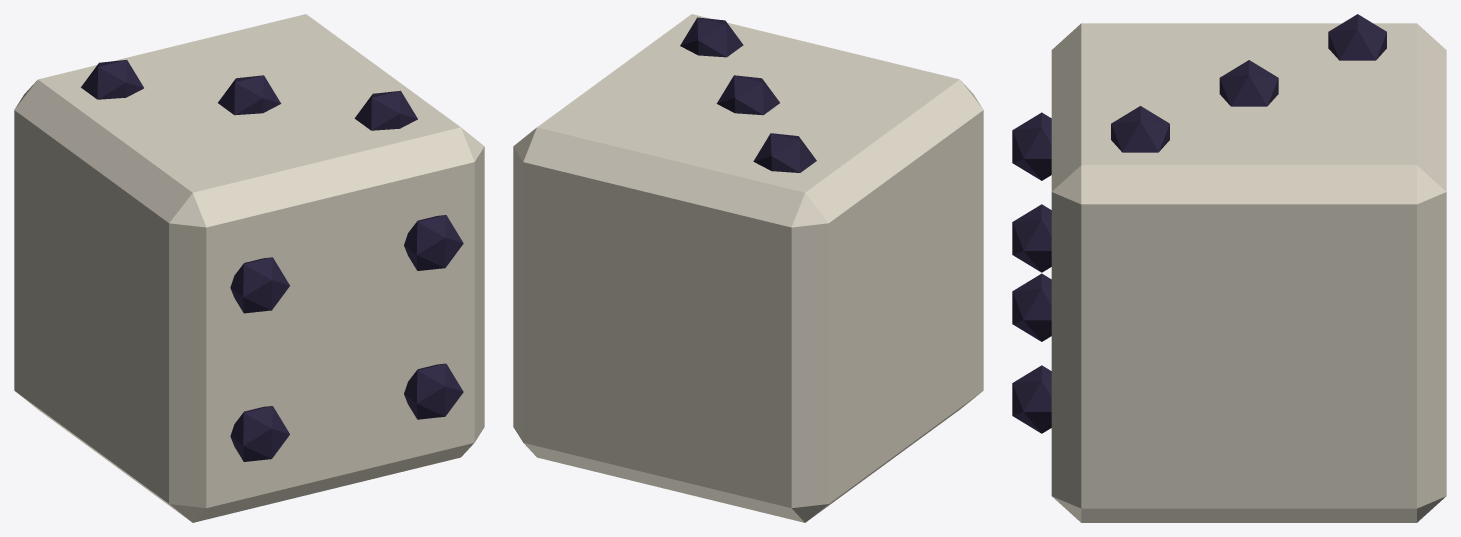
Rendered from pip_dice.glb.
3 renders of one model, left to right at view 1: azimuth 30°, elevation 25°; view 2: azimuth 150°, elevation 25°; view 3: azimuth 270°, elevation 25°, orthographic. The views are drawn at different scales.
Visible parts, largest first — view 1: pip_dice; view 2: pip_dice; view 3: pip_dice.
Part boxes in pixels (<box>): pip_dice: <box>14,14,484,522</box>; pip_dice: <box>513,14,983,522</box>; pip_dice: <box>1012,14,1446,522</box>.
Size of the model in its own units: 0.8 by 0.8595 by 0.8795.
